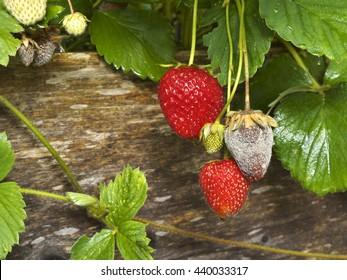ripe: (156, 63, 227, 138), (197, 157, 250, 221)
unripe: (225, 111, 276, 181), (199, 121, 225, 154), (8, 9, 47, 29), (61, 12, 88, 37), (34, 39, 56, 68), (16, 37, 36, 67)
